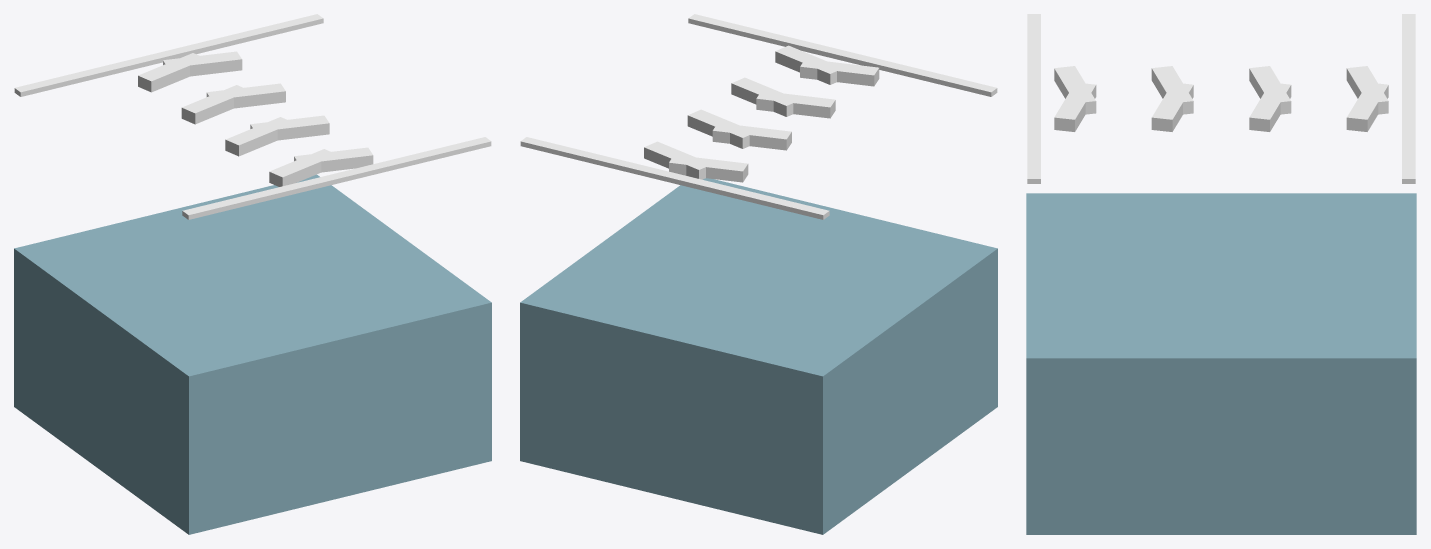
Rendered from ThinConveyor_Half.glb.
3 views of the same model, side by side, from view 1: azimuth 30°, elevation 25°; view 2: azimuth 150°, elevation 25°; view 3: azimuth 270°, elevation 25° (orthographic). The views are drawn at different scales.
Parts seen in each view (by area): view 1: ThinConveyor_Half_body, rail_-0.006, rail_0.006, chev_2_1.006, chev_1_1.006, chev_3_1.006, chev_0_1.006, chev_1_-1.006, chev_0_-1.006, chev_2_-1.006, chev_3_-1.006; view 2: ThinConveyor_Half_body, rail_0.006, rail_-0.006, chev_2_1.006, chev_3_1.006, chev_1_-1.006, chev_0_1.006, chev_0_-1.006, chev_1_1.006, chev_3_-1.006, chev_2_-1.006; view 3: ThinConveyor_Half_body, rail_0.006, rail_-0.006, chev_3_-1.006, chev_2_-1.006, chev_0_-1.006, chev_1_-1.006, chev_2_1.006, chev_3_1.006, chev_1_1.006, chev_0_1.006.
Part boxes in pixels (x1,y1,x2,y2): ThinConveyor_Half_body: (14,174,491,534); rail_-0.006: (182,137,491,219); rail_0.006: (14,14,323,96); chev_2_1.006: (181,85,249,124); chev_1_1.006: (225,117,293,156); chev_3_1.006: (138,53,205,92); chev_0_1.006: (269,149,336,186); chev_1_-1.006: (250,115,329,140); chev_0_-1.006: (294,147,373,172); chev_2_-1.006: (206,83,285,108); chev_3_-1.006: (163,51,242,76); ThinConveyor_Half_body: (520,178,997,534); rail_0.006: (520,137,829,219); rail_-0.006: (688,14,997,96); chev_2_1.006: (712,123,791,150); chev_3_1.006: (669,155,748,182); chev_1_-1.006: (731,77,799,116); chev_0_1.006: (800,59,879,86); chev_0_-1.006: (775,45,843,84); chev_1_1.006: (756,92,835,118); chev_3_-1.006: (644,141,711,179); chev_2_-1.006: (687,109,749,148); ThinConveyor_Half_body: (1026,193,1416,534); rail_0.006: (1402,14,1415,183); rail_-0.006: (1027,14,1040,183); chev_3_-1.006: (1346,83,1388,131); chev_2_-1.006: (1249,82,1291,131); chev_0_-1.006: (1054,82,1096,131); chev_1_-1.006: (1151,82,1193,131); chev_2_1.006: (1249,66,1291,114); chev_3_1.006: (1346,66,1388,114); chev_1_1.006: (1151,66,1193,114); chev_0_1.006: (1054,66,1096,114).
Size of the model in its own units: 1 by 1.02 by 1.
